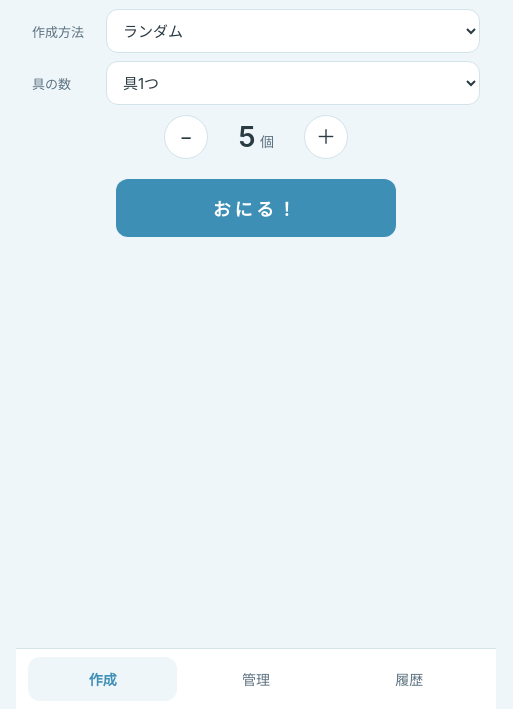
App › 3タブが表示され、切替で画面が変わる
The width and height of the screenshot is (513, 709).
expect the button "おにる！" is shown: met, box [116,179,396,237]
Step 1. Click the tab "管理" → (256, 679), box [181,657,331,701]
(page scrolled)
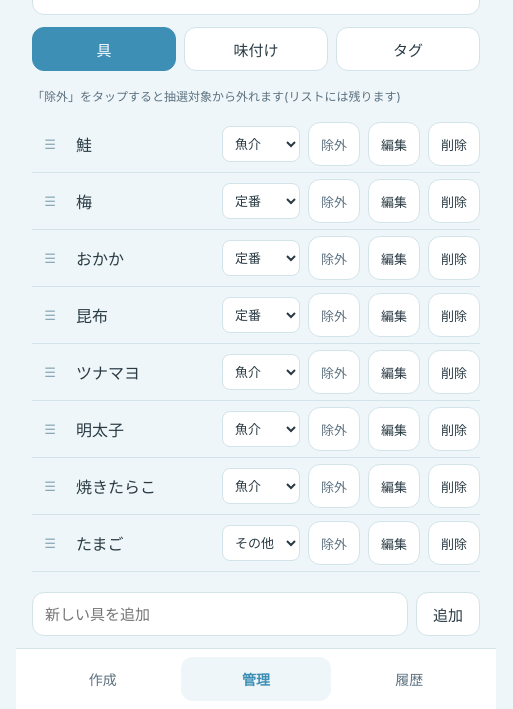
expect the field with placeholder "新しい具を追加" is shown: met, box [32,592,408,636]
Step 2. Click the tab "履歴" → (409, 679), box [335,657,484,701]
(page scrolled)
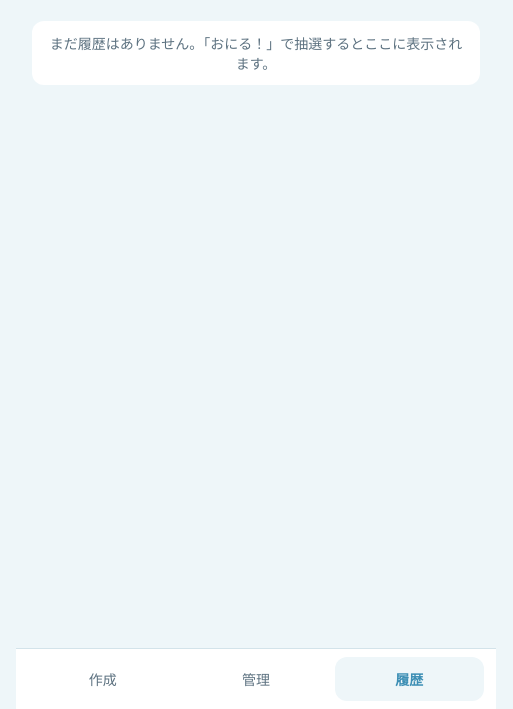
expect the text "まだ履歴はありません。「おにる！」で抽選するとここに表示されます。" is shown: met, box [32,21,480,85]
